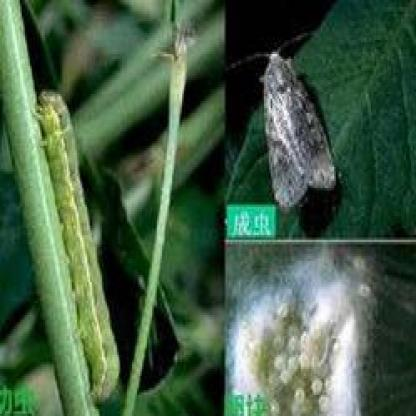armyworm: (32, 86, 124, 405), (254, 49, 344, 213)
